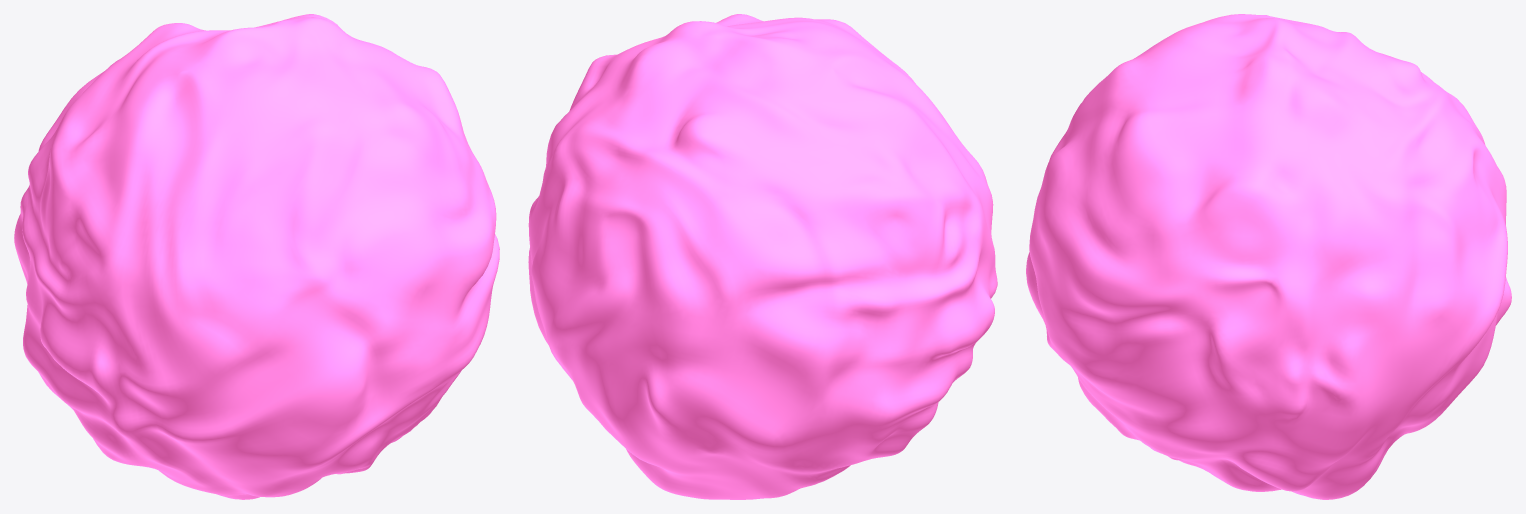
The model's file is nucleolus_hq.fbx.
3 renders of one model, left to right at view 1: azimuth 30°, elevation 25°; view 2: azimuth 150°, elevation 25°; view 3: azimuth 270°, elevation 25°, orthographic.
Parts seen in each view (by area): view 1: Nucleolus; view 2: Nucleolus; view 3: Nucleolus.
Part boxes in pixels (x1,y1,x2,y2): Nucleolus: (14, 14, 499, 499); Nucleolus: (528, 14, 997, 499); Nucleolus: (1026, 14, 1511, 499).
Size of the model in its own units: 186 by 196 by 192.
